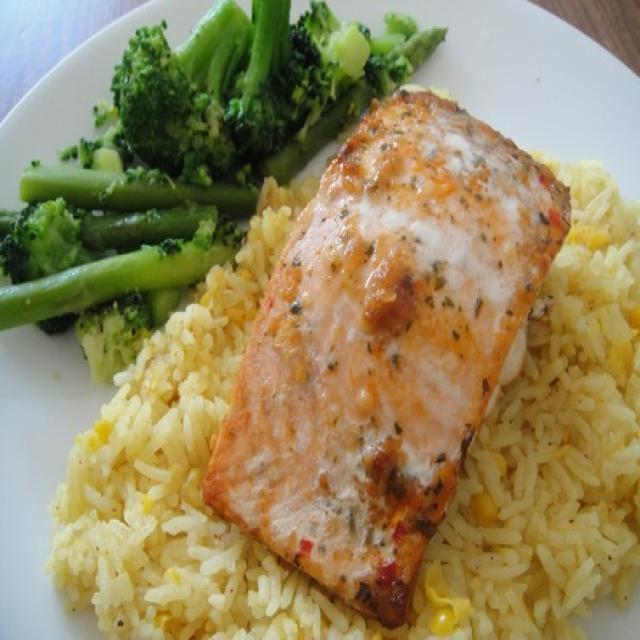熟制海鲜: (1, 7, 635, 626)
